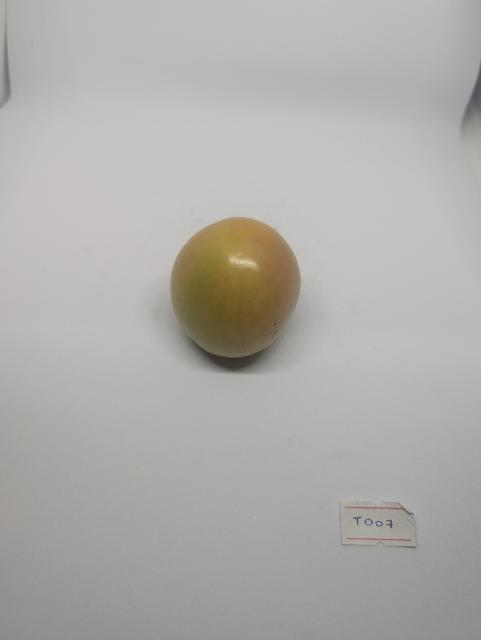breaker: (169, 218, 307, 362)
